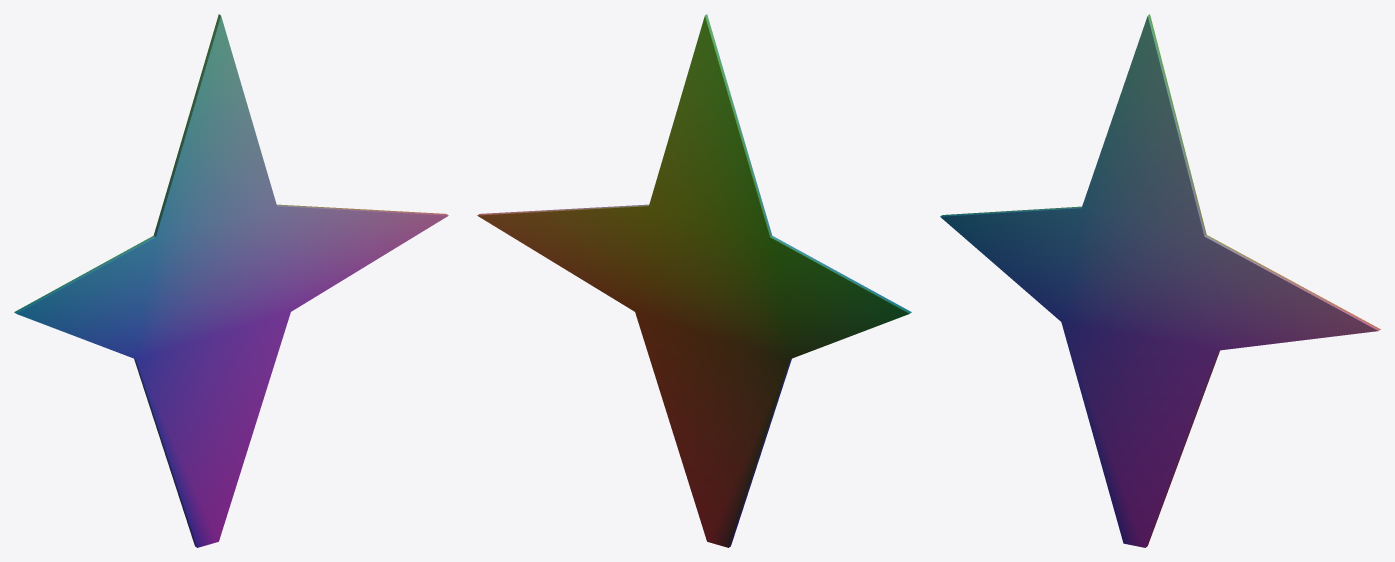
File: zeometry-flat-shapes-flat-star_v3.glb
3 renders of one model, left to right at view 1: azimuth 30°, elevation 25°; view 2: azimuth 150°, elevation 25°; view 3: azimuth 330°, elevation 25°, orthographic.
Visible parts, largest first — view 1: Flat Star_v3; view 2: Flat Star_v3; view 3: Flat Star_v3.
Part boxes in pixels (x1,y1,x2,y2): Flat Star_v3: (14,14,448,547); Flat Star_v3: (477,14,911,547); Flat Star_v3: (940,14,1380,547).
Size of the model in its own units: 0.43 by 0.5 by 0.00402.
